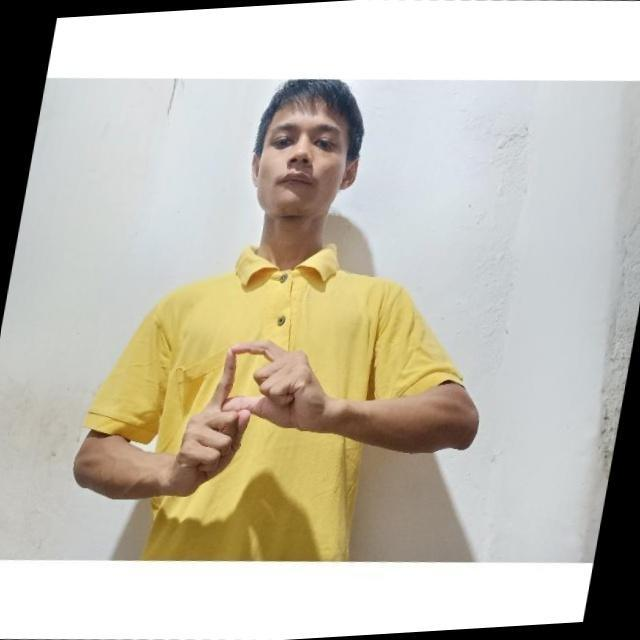D: (184, 327, 311, 464)
